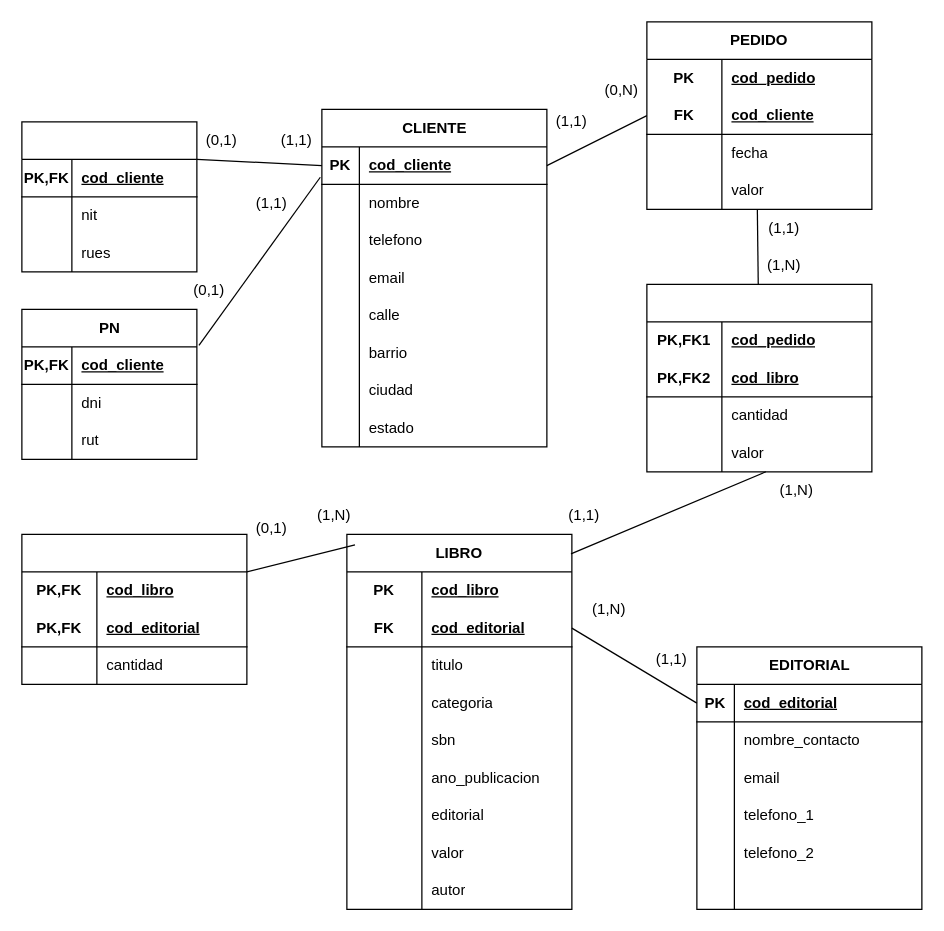
Some shapes in this 944 by 931 pixel diagram are drawn without their labels. Here are the shapes that lost their labels. From the top down, the box of each, then its label:
(21, 121, 197, 272): PJ
(646, 283, 872, 472): ITEMS
(21, 533, 247, 684): INVENTARIO
